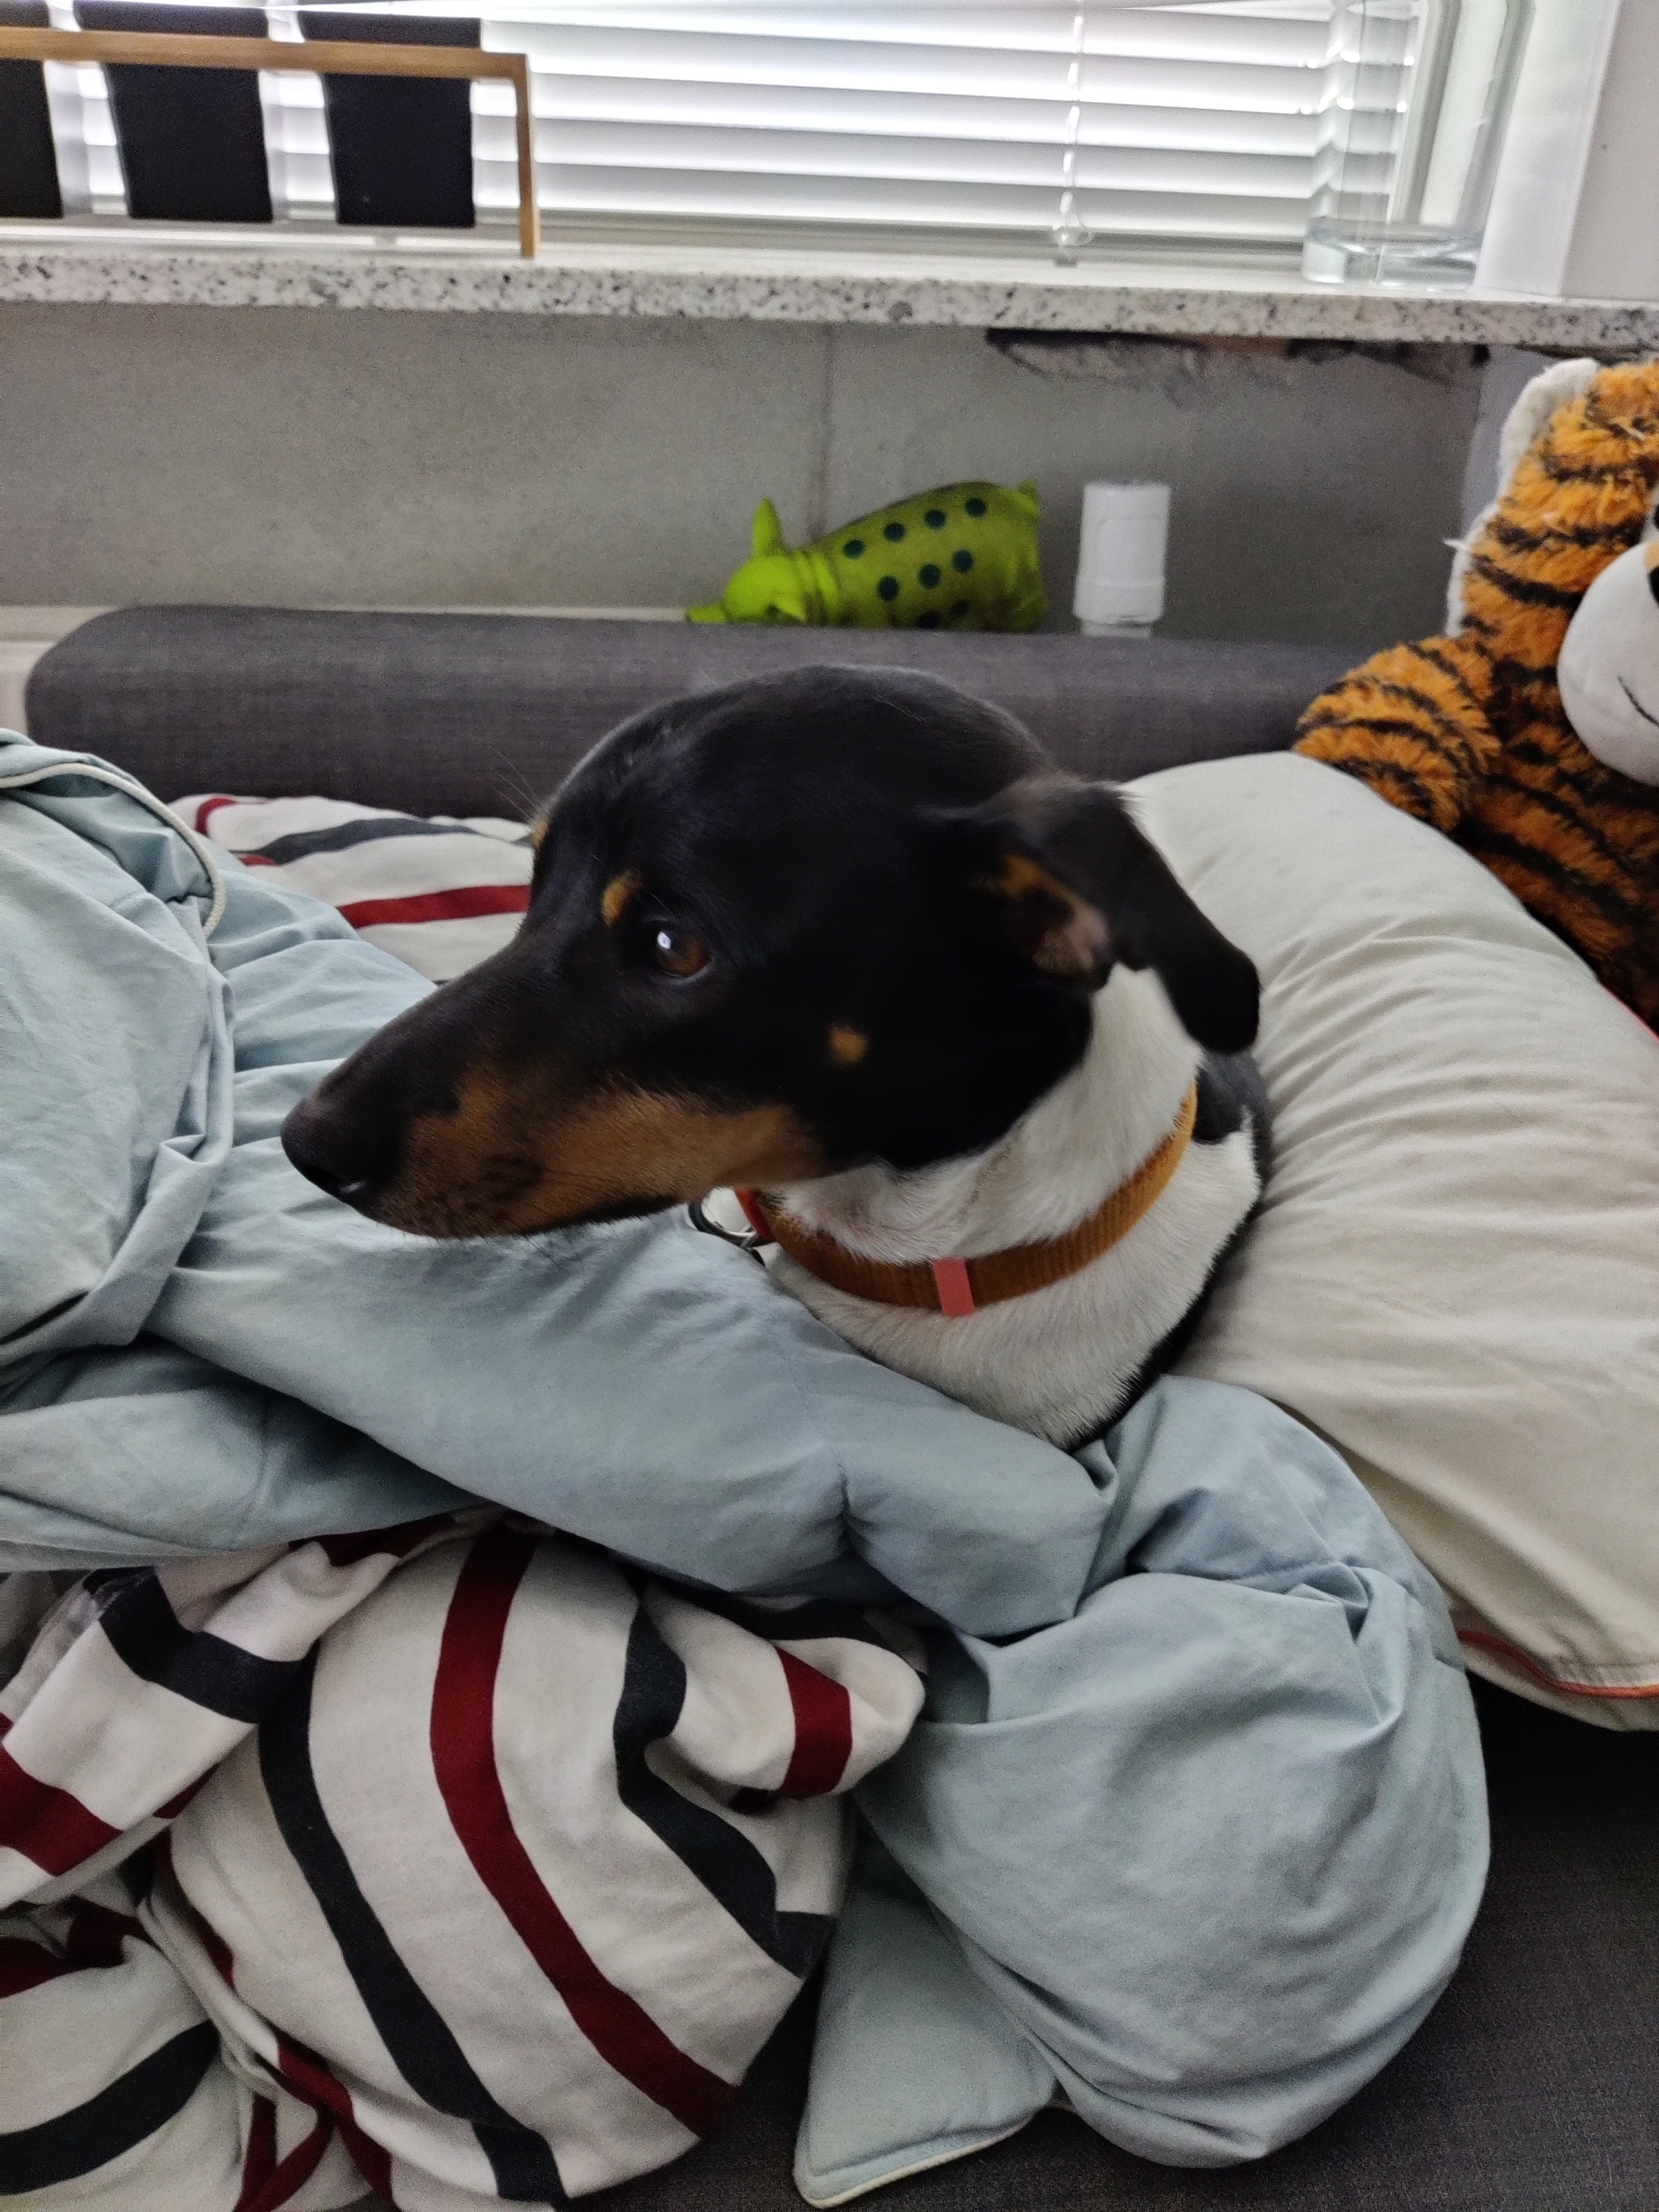Dog: (261, 636, 1303, 1468)
